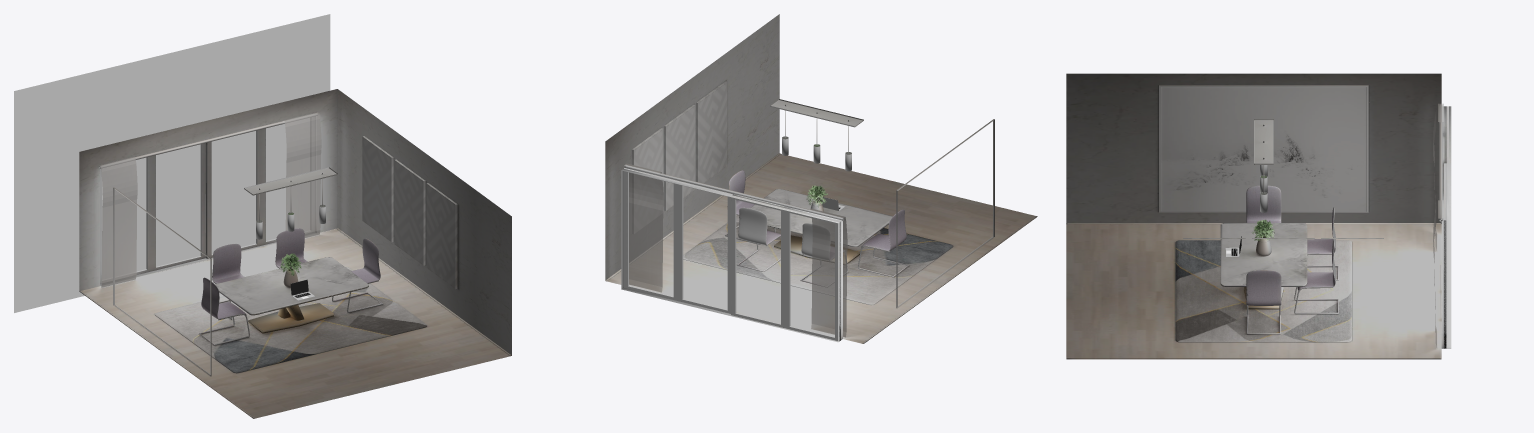
The model's file is room2.glb.
3 renders of one model, left to right at view 1: azimuth 30°, elevation 25°; view 2: azimuth 150°, elevation 25°; view 3: azimuth 270°, elevation 25°, orthographic. The views are drawn at different scales.
Parts seen in each view (by area): view 1: Backdrop_Backdrop_0, Walls_Walls_0, Modern Dining Room_Floor_0, Carpet_Carpet_0, DiningTable_DiningTable_0, Paintings_Paintings_0, Curtains_Curtains_0, DoorFrame_DoorFrame_0, LightChrome_LightChrome_0, PictureFrame_PictureFrame_0, CurtainPole_CurtainPole_0, Silver colour Cover.001; view 2: Modern Dining Room_Floor_0, Walls_Walls_0, Carpet_Carpet_0, DoorFrame_DoorFrame_0, Paintings_Paintings_0, DiningTable_DiningTable_0, Curtains_Curtains_0, LightChrome_LightChrome_0, PictureFrame_PictureFrame_0, CurtainPole_CurtainPole_0, Silver colour Cover.001; view 3: Modern Dining Room_Floor_0, Walls_Walls_0, Picture_Picture_0, Carpet_Carpet_0, DiningTable_DiningTable_0, DoorFrame_DoorFrame_0, PictureFrame_PictureFrame_0, LightChrome_LightChrome_0, Curtains_Curtains_0, Silver colour Cover.001, CurtainPole_CurtainPole_0.
Boxes of the visible parts, x1,y1,x2,y2 form: Backdrop_Backdrop_0: (14,14,330,312); Walls_Walls_0: (79,89,511,355); Modern Dining Room_Floor_0: (79,228,511,418); Carpet_Carpet_0: (154,267,427,373); DiningTable_DiningTable_0: (199,228,382,345); Paintings_Paintings_0: (362,136,457,288); Curtains_Curtains_0: (99,112,321,287); DoorFrame_DoorFrame_0: (100,116,316,285); LightChrome_LightChrome_0: (244,167,337,222); PictureFrame_PictureFrame_0: (113,187,211,376); CurtainPole_CurtainPole_0: (99,113,317,168); Silver colour Cover.001: (256,204,325,300); Modern Dining Room_Floor_0: (605,153,1037,343); Walls_Walls_0: (605,14,779,279); Carpet_Carpet_0: (683,215,953,304); DoorFrame_DoorFrame_0: (621,167,842,342); Paintings_Paintings_0: (632,81,727,233); DiningTable_DiningTable_0: (725,170,908,287); Curtains_Curtains_0: (624,163,847,337); LightChrome_LightChrome_0: (770,99,863,154); PictureFrame_PictureFrame_0: (896,119,994,308); CurtainPole_CurtainPole_0: (625,165,843,220); Silver colour Cover.001: (782,136,851,210); Modern Dining Room_Floor_0: (1066,223,1441,359); Walls_Walls_0: (1066,73,1441,223); Picture_Picture_0: (1160,87,1366,211); Carpet_Carpet_0: (1175,240,1351,342); DiningTable_DiningTable_0: (1220,185,1338,334); DoorFrame_DoorFrame_0: (1441,106,1451,348); PictureFrame_PictureFrame_0: (1159,85,1368,212); LightChrome_LightChrome_0: (1254,119,1273,194); Curtains_Curtains_0: (1433,103,1443,346); Silver colour Cover.001: (1225,165,1267,256); CurtainPole_CurtainPole_0: (1439,104,1442,221).
Bounding box in the file's own units: 6.98 × 4.68 × 8.05.
Materials: 18 (18 with a texture image).
